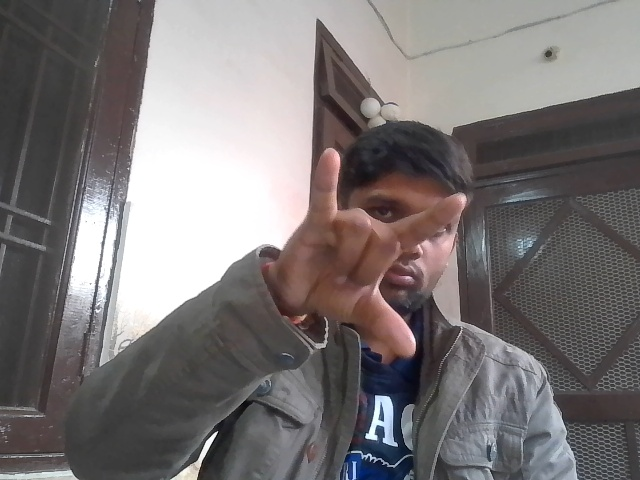ILoveYou: (278, 145, 486, 373)
